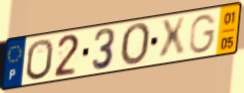2: (53, 32, 82, 79)
3: (90, 27, 119, 73)
G: (188, 13, 218, 56)
O: (120, 21, 153, 68), (25, 37, 55, 82)
X: (158, 15, 187, 63)
